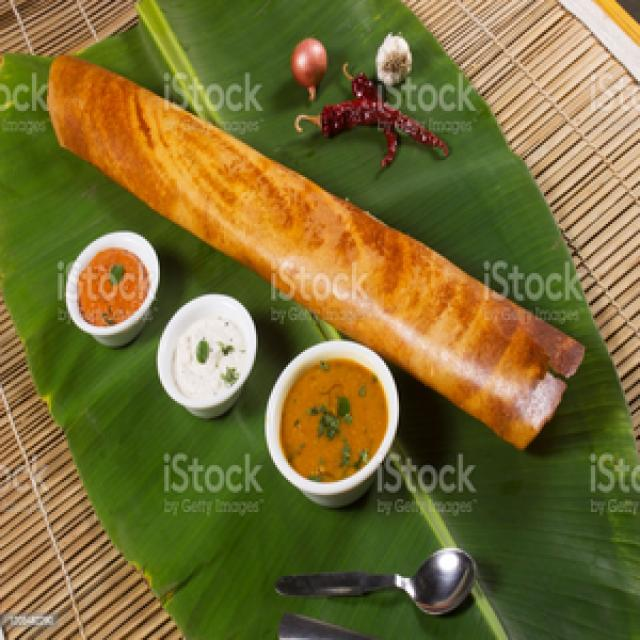dosa: (35, 35, 598, 458)
